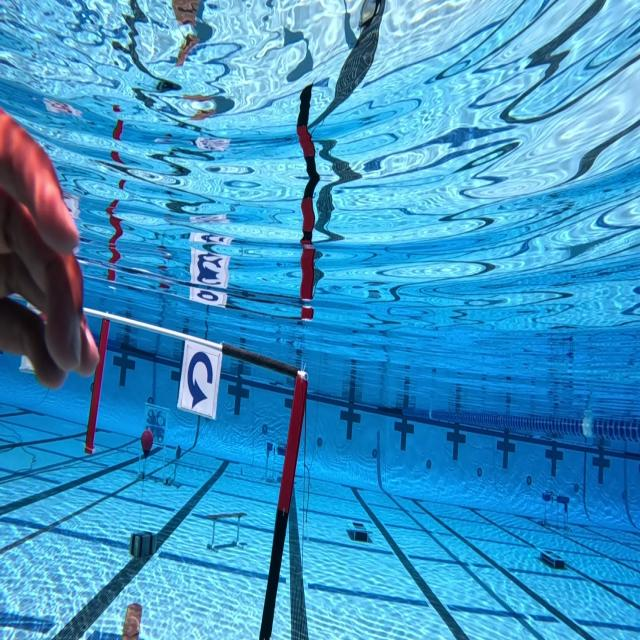blue_side: (173, 334, 222, 422)
